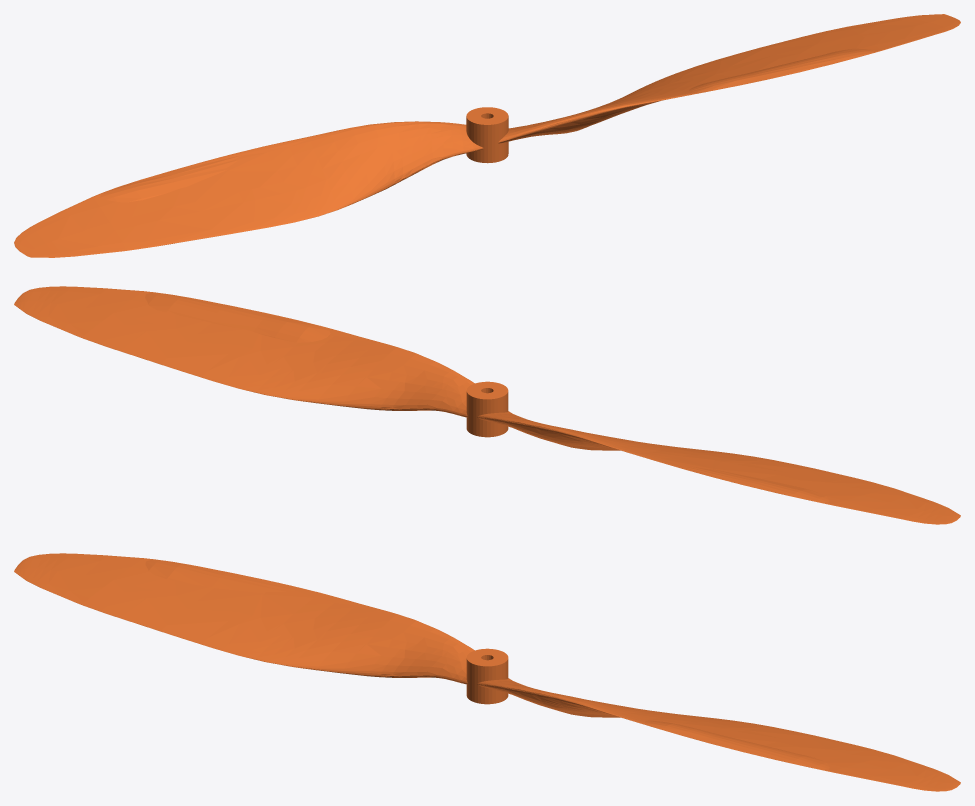
Rendered from rotor_2__rotor_2_visual.glb.
3 renders of one model, top to bottom at view 1: azimuth 30°, elevation 25°; view 2: azimuth 150°, elevation 25°; view 3: azimuth 330°, elevation 25°, orthographic.
Parts seen in each view (by area): view 1: EPP1045_B; view 2: EPP1045_B; view 3: EPP1045_B.
Part boxes in pixels (bbox=[...]): EPP1045_B: bbox=[14, 14, 960, 257]; EPP1045_B: bbox=[14, 286, 960, 524]; EPP1045_B: bbox=[14, 553, 960, 791].
Bounding box in the file's own units: 0.2577 × 0.0103 × 0.028.
